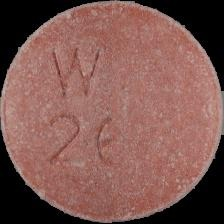68788-9911: (0, 0, 224, 224)
